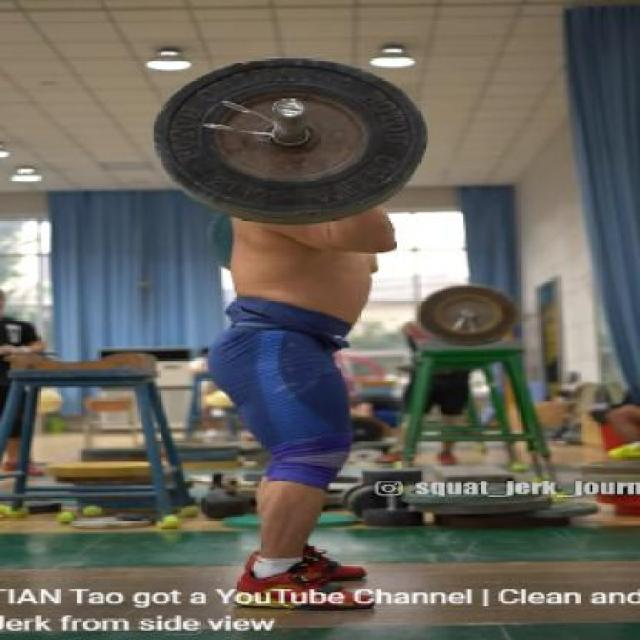Barbell: (263, 90, 320, 124)
